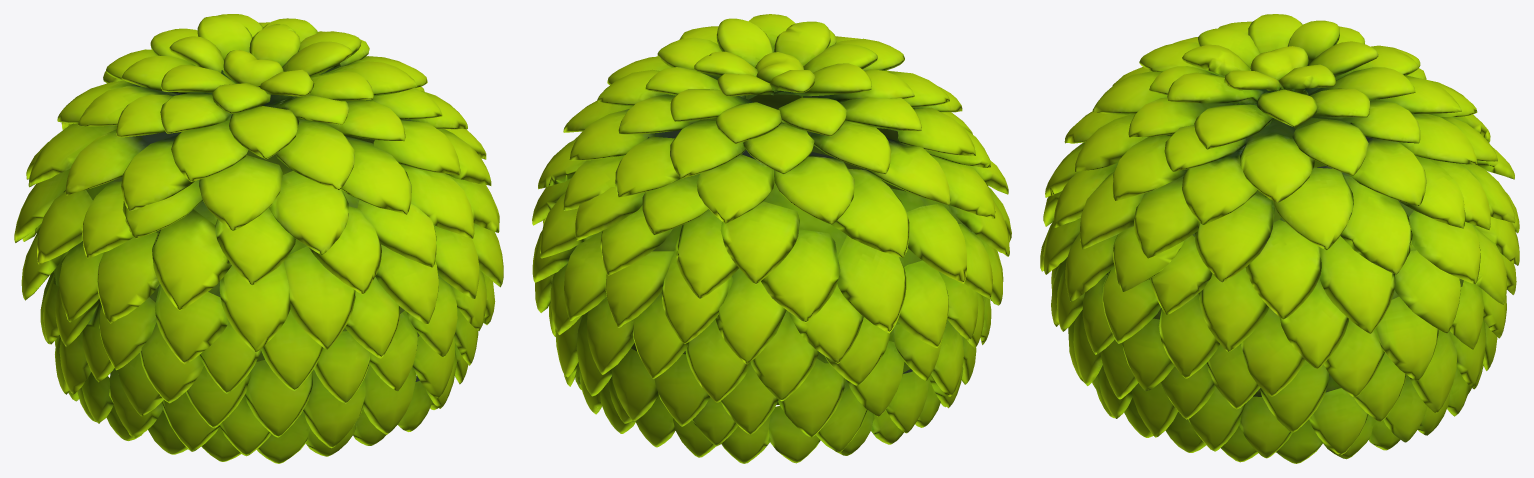
3 views of the same model, side by side, from view 1: azimuth 30°, elevation 25°; view 2: azimuth 150°, elevation 25°; view 3: azimuth 270°, elevation 25° (orthographic).
Visible parts, largest first — view 1: garden-bush; view 2: garden-bush; view 3: garden-bush.
Boxes of the visible parts, x1,y1,x2,y2 form: garden-bush: [14, 14, 503, 463]; garden-bush: [532, 14, 1011, 463]; garden-bush: [1040, 14, 1519, 463].
Bounding box in the file's own units: 0.9704 × 0.758 × 0.9704.
Materials: 1 (1 with a texture image).
